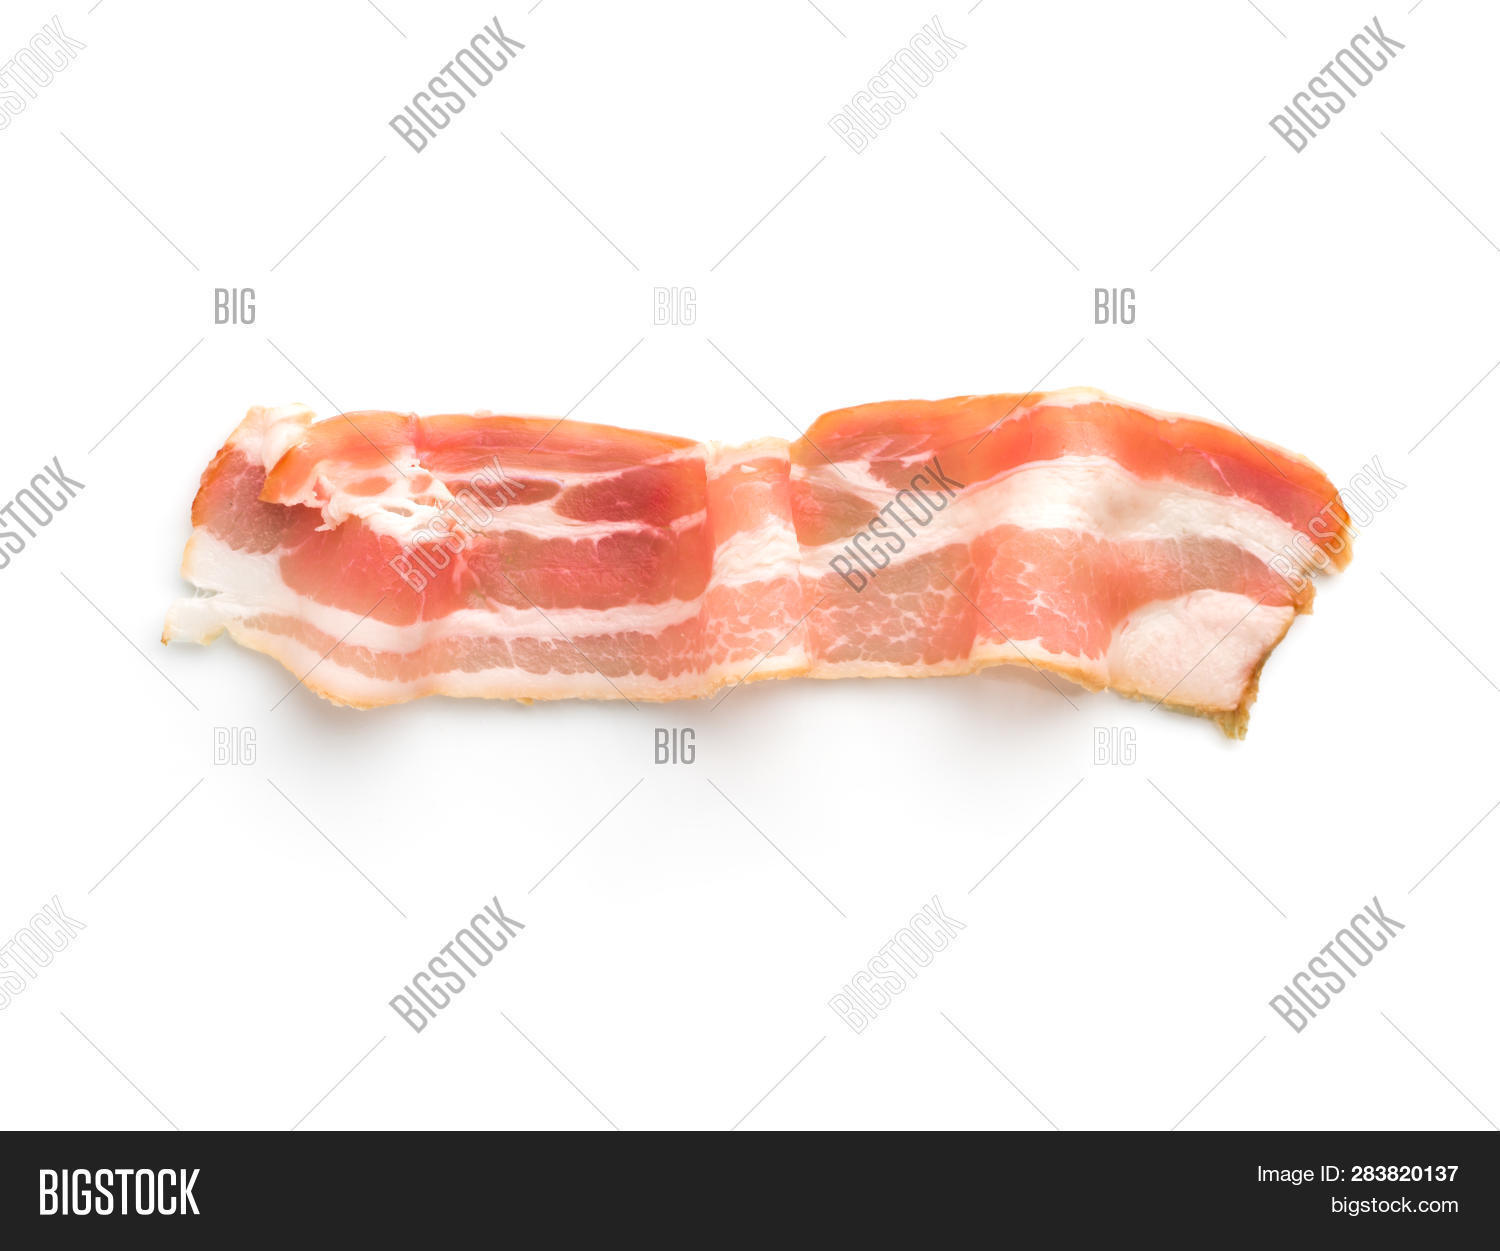bacon: (164, 383, 1348, 768)
